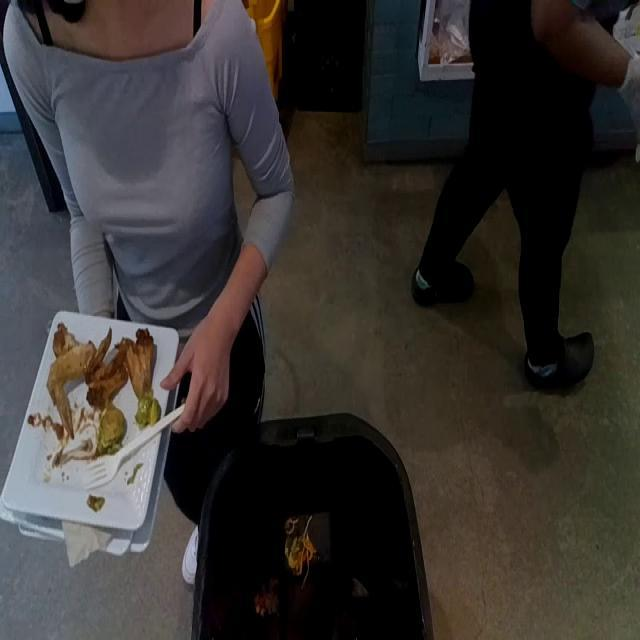Anorganik: (0, 313, 179, 553), (78, 418, 188, 485)
Organik: (52, 315, 158, 441)
